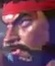ryu: (0, 0, 49, 65)
